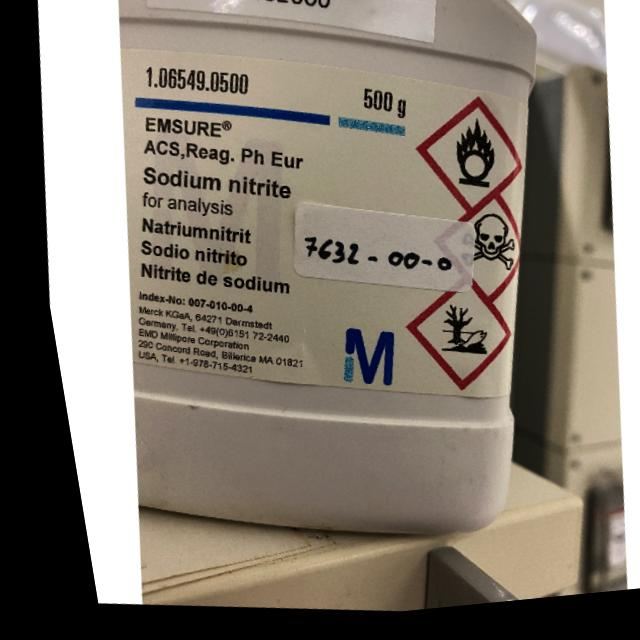acute toxicity: (446, 219, 513, 285)
hazardous to the environment: (421, 307, 481, 366)
oxidising: (437, 123, 499, 200)
